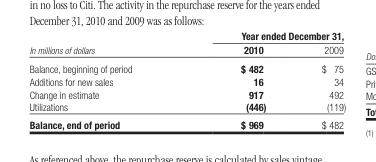table: (28, 28, 345, 130)
table column: (28, 28, 185, 130), (185, 28, 293, 130), (293, 28, 345, 130)
table column header: (28, 28, 345, 58)
table row: (28, 41, 345, 58), (28, 58, 345, 74), (28, 100, 345, 115), (28, 115, 345, 130), (28, 28, 345, 41), (28, 74, 345, 87), (28, 87, 345, 100)
table spanning cell: (28, 28, 185, 58), (185, 28, 345, 41)
